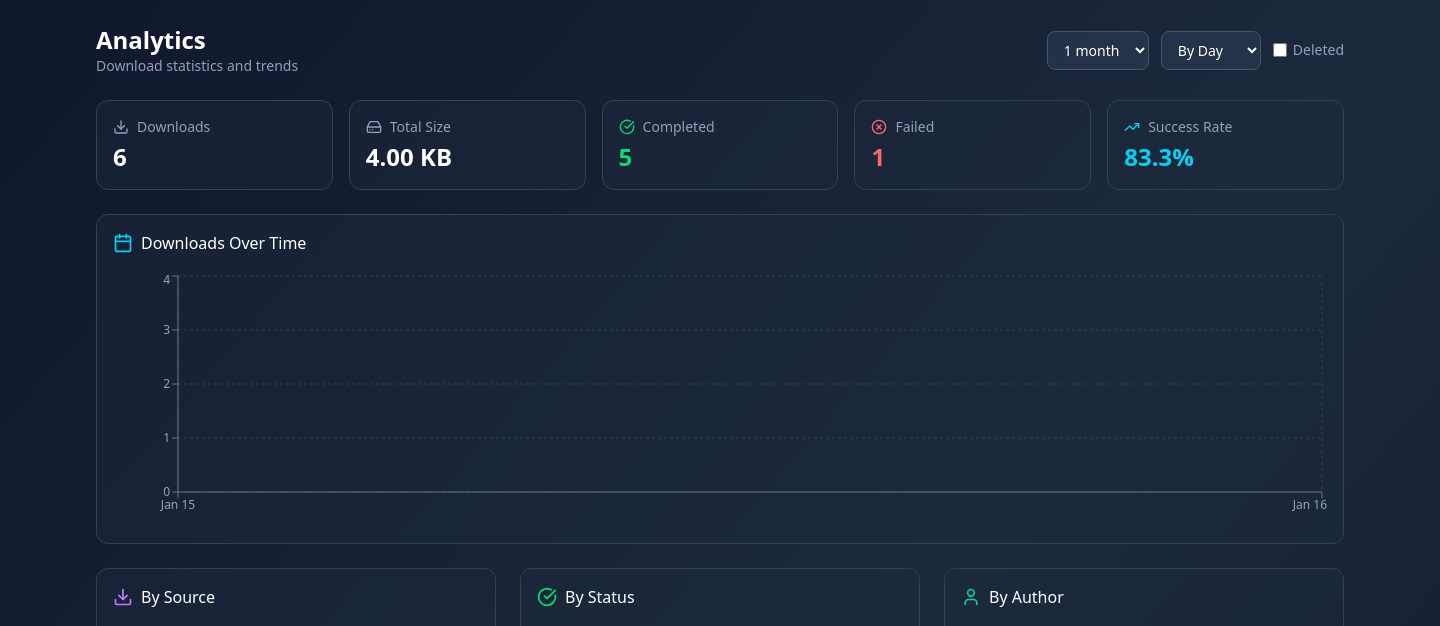
it: AnalyticsPage - controls › the period, grouping and deleted toggle feed the query and the hourly title
Step 1. Select "1 week" in the 1st dropdown → [1098, 50], box [1047,30,1149,70]
Step 2. Select "1 day" in the 1st dropdown → [1098, 50], box [1047,30,1149,70]
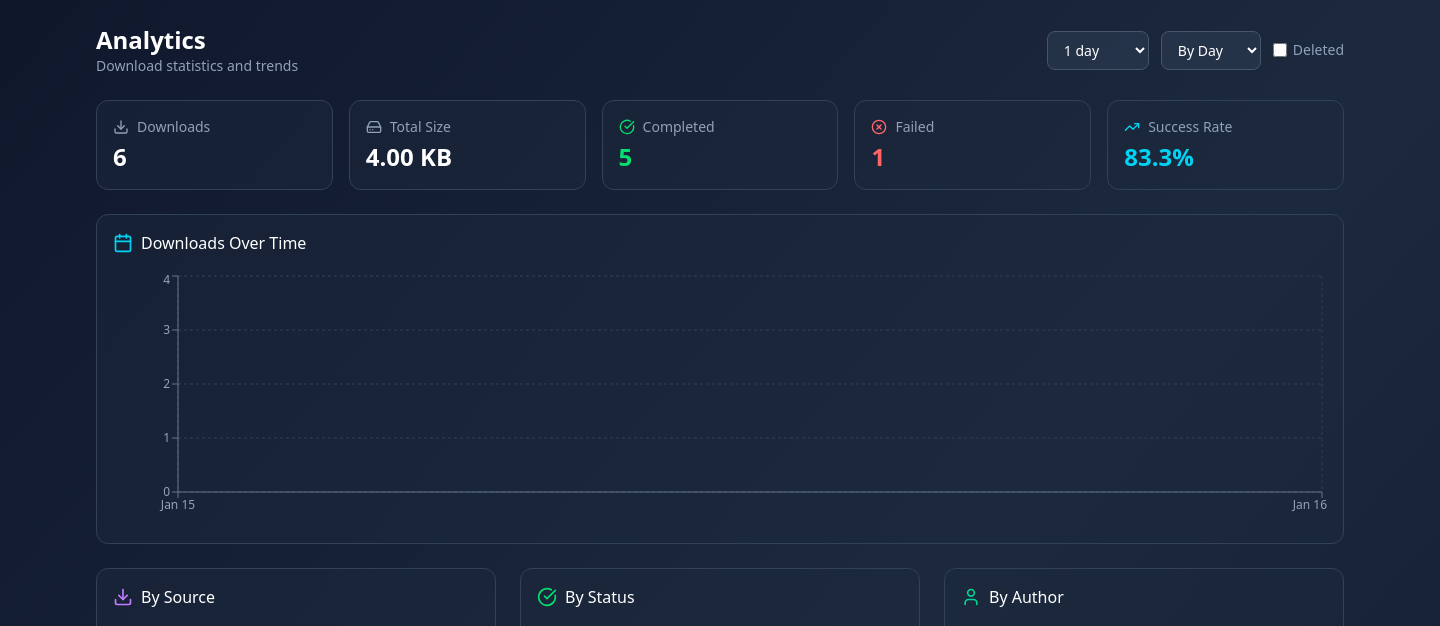
Step 3. Select "90 days" in the 1st dropdown → [1098, 50], box [1047,30,1149,70]
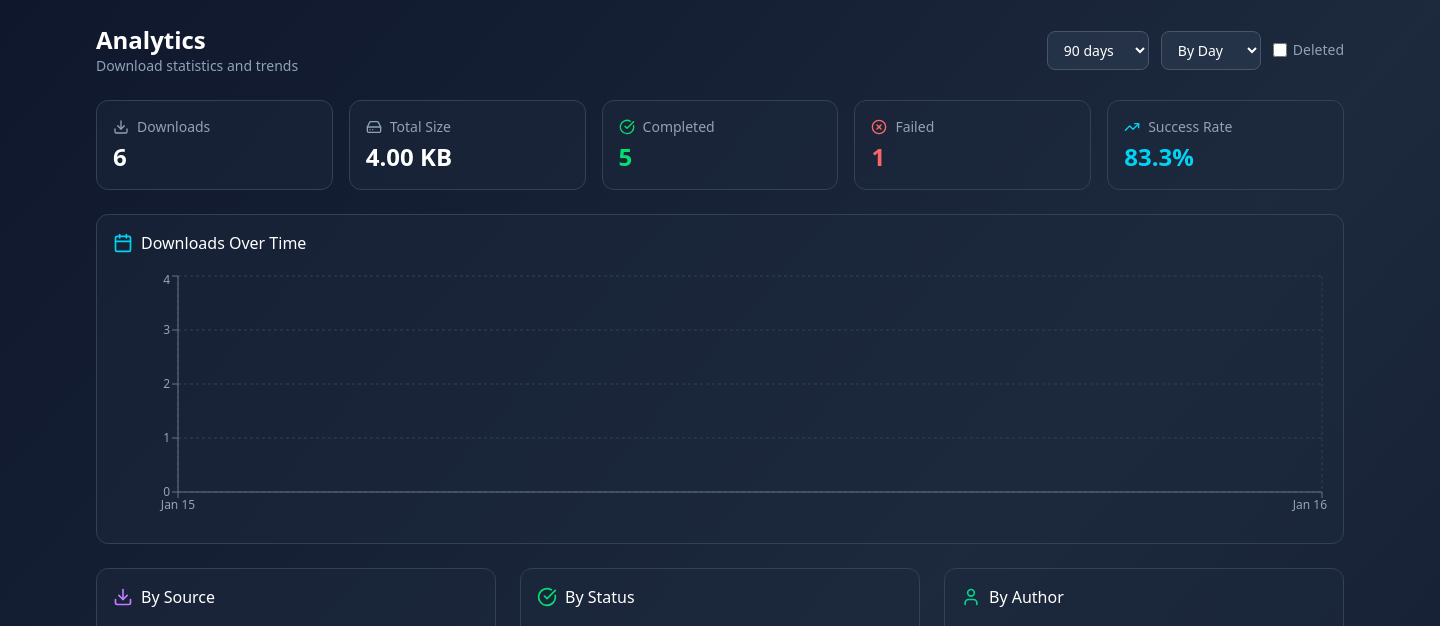
Step 4. Select "All time" in the 1st dropdown → [1098, 50], box [1047,30,1149,70]
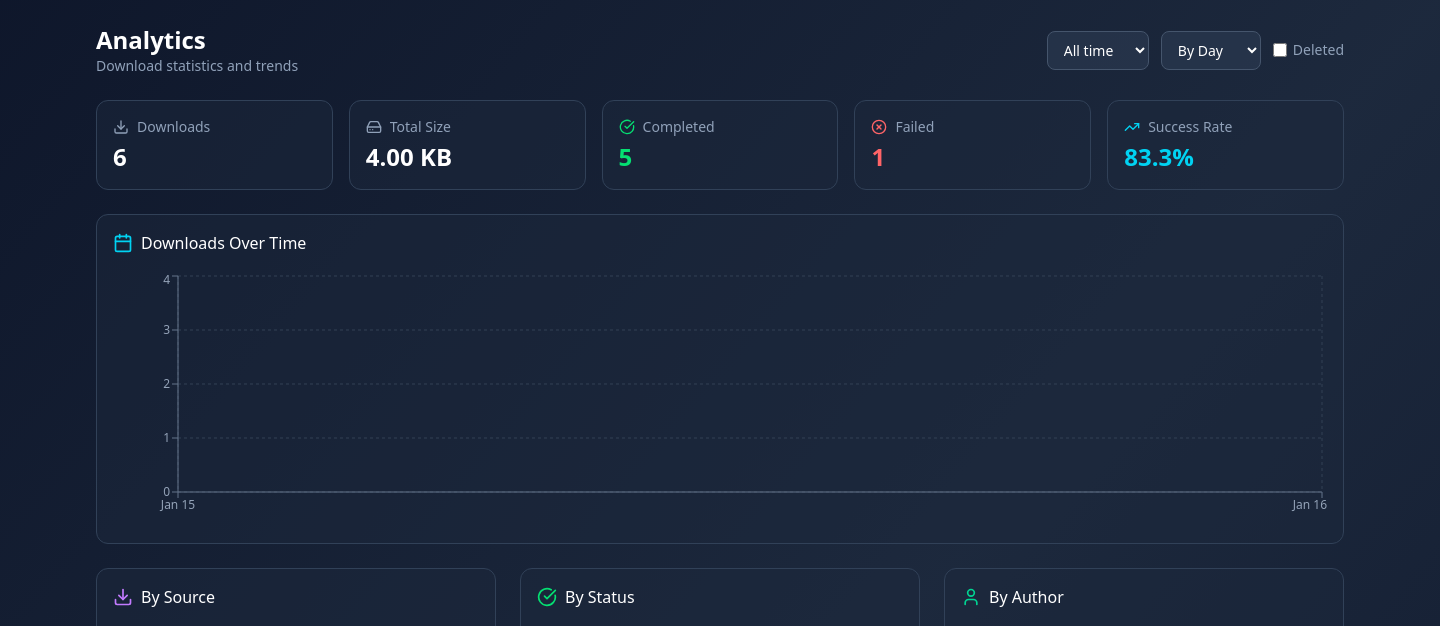
Step 5. Select "1 month" in the 1st dropdown → [1098, 50], box [1047,30,1149,70]
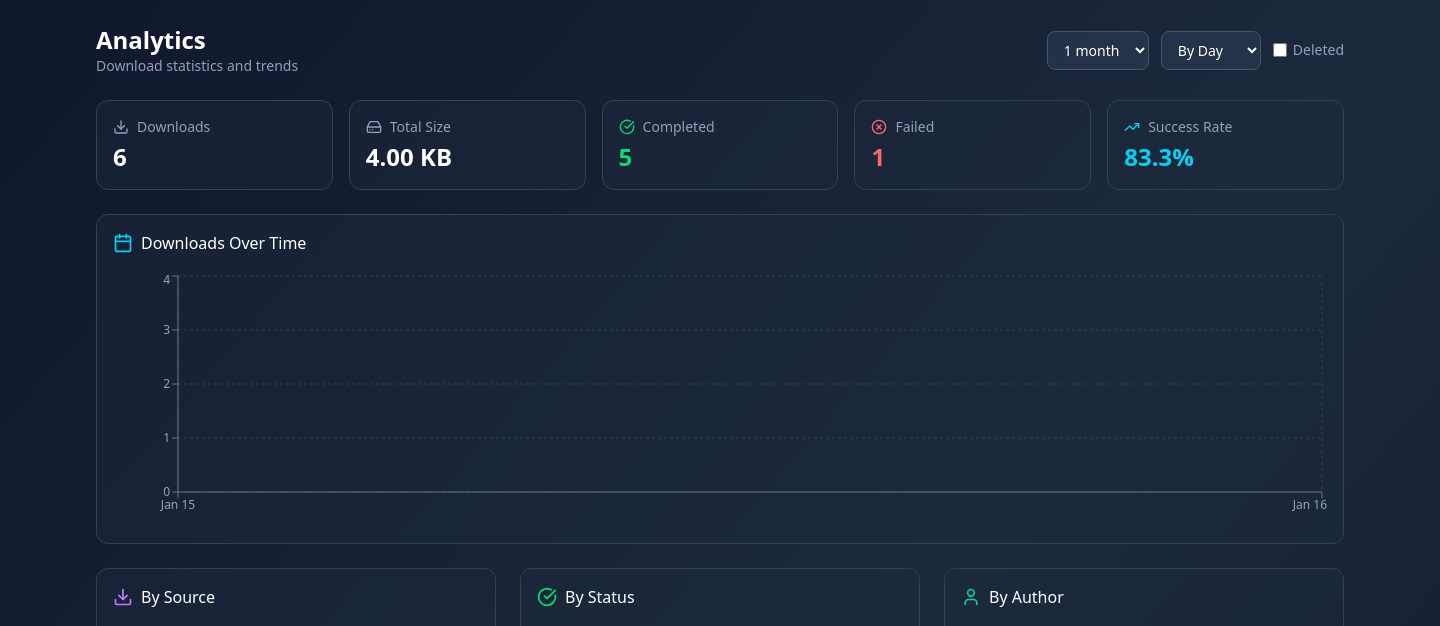
Step 6. Select "By Hour" in the 2nd dropdown → [1211, 50], box [1161,30,1261,70]
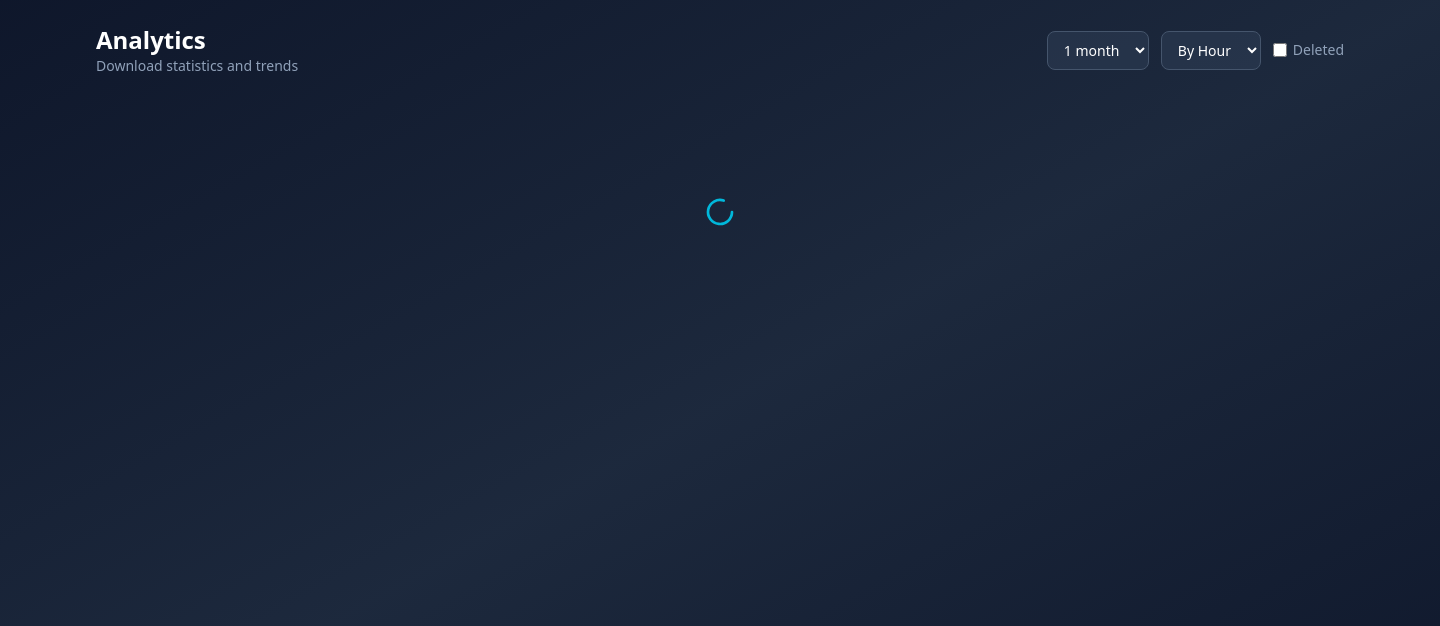
Step 7. Click the checkbox labelled "Deleted" → [1280, 50], box [1273,43,1287,57]
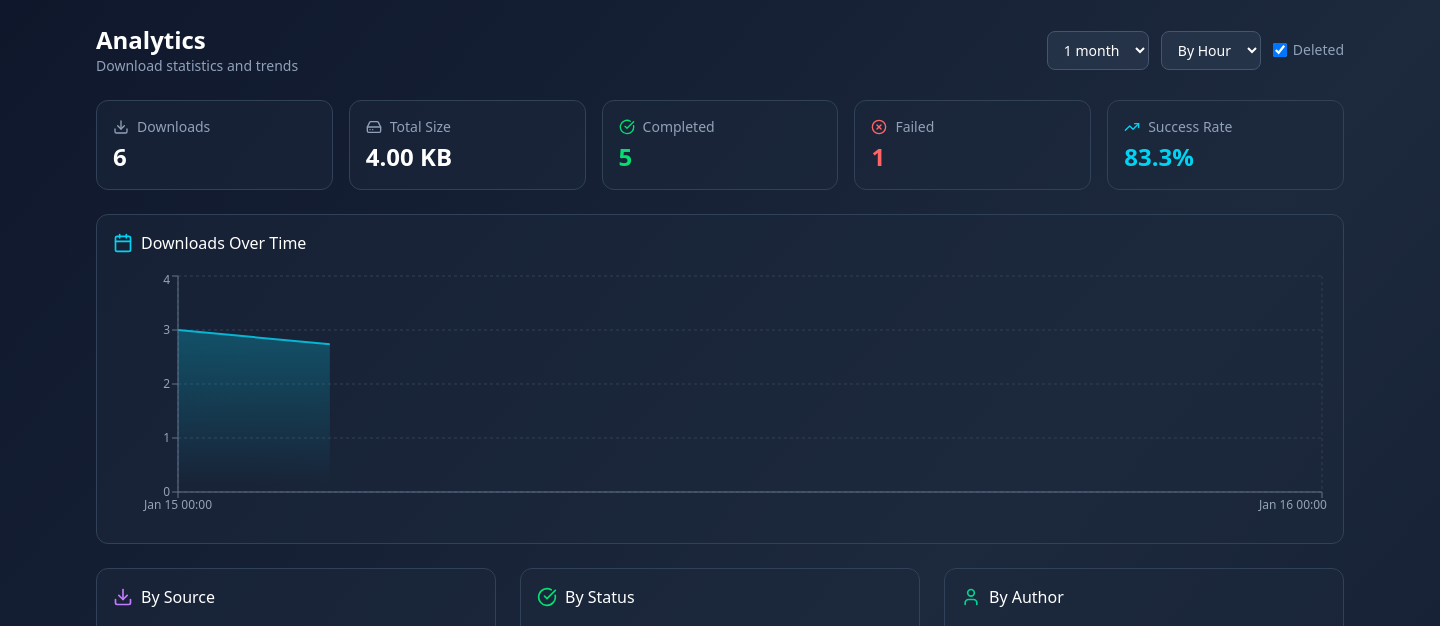
Now the checkbox labelled "Deleted" is checked, box [1273,43,1287,57]
